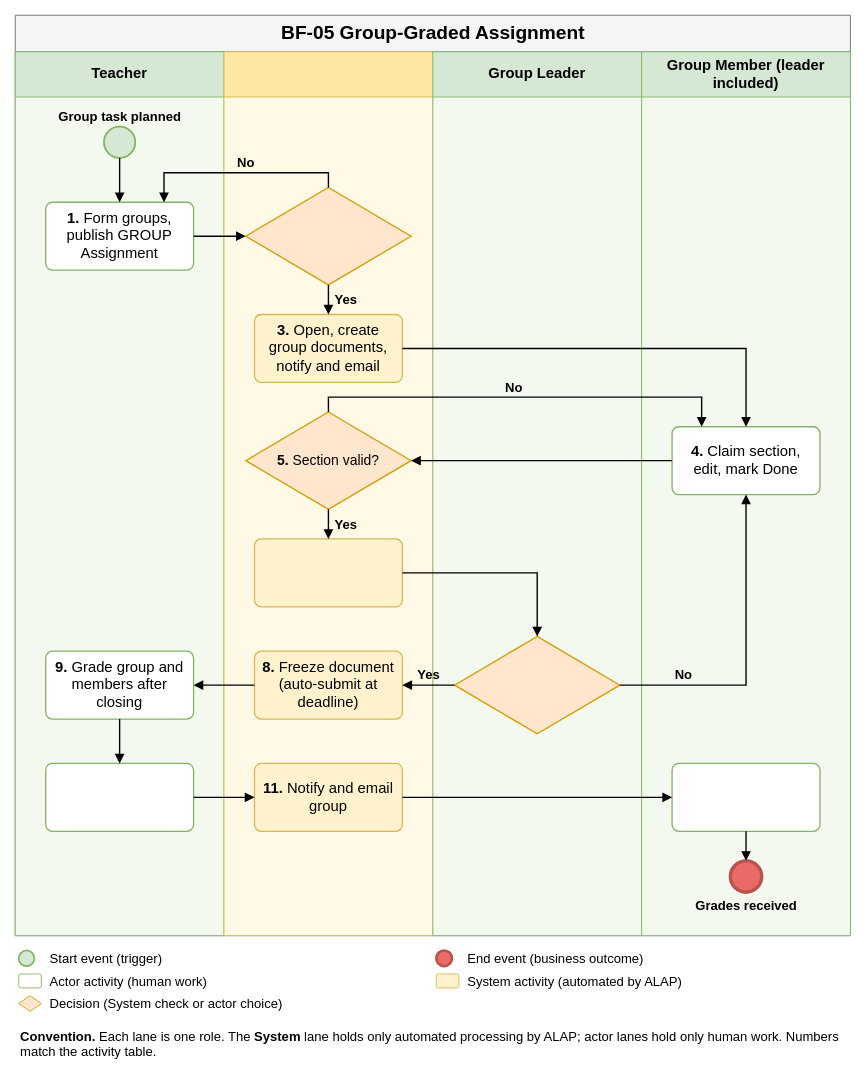
Image size: 866x1076. Some labels were removed from this diagram. Here are the shapes that lost their labels. From the top down, the box of each, then its label:
(245, 186, 411, 285): 2. Setup valid?
(223, 51, 433, 936): System
(253, 538, 403, 607): 6. Publish section, log member activity
(454, 635, 620, 734): 7. Ready to submit?
(45, 762, 194, 832): 10. Publish grades
(671, 762, 820, 832): 12. View document and own grade
